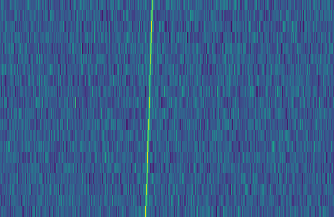signal: (141, 0, 157, 217)
